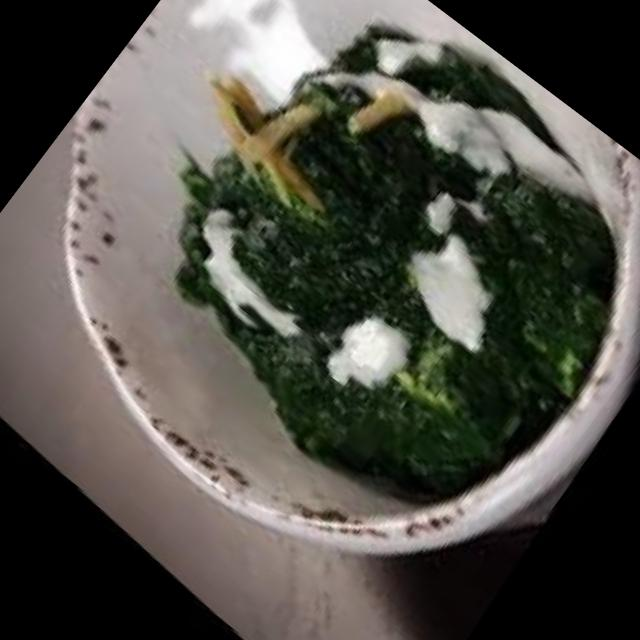palak_paneer: (53, 0, 640, 595)
